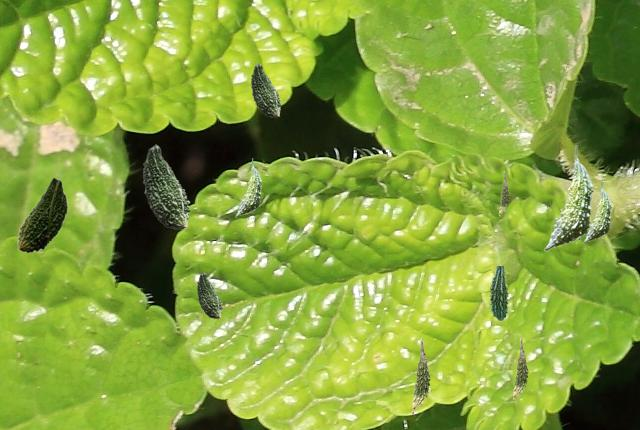ampalaya: (544, 145, 593, 250), (143, 144, 189, 228), (17, 177, 67, 252), (583, 180, 611, 242), (251, 63, 280, 116), (235, 158, 261, 216), (412, 338, 429, 413), (197, 272, 221, 317), (489, 266, 507, 319), (513, 338, 527, 400), (499, 171, 508, 216)
